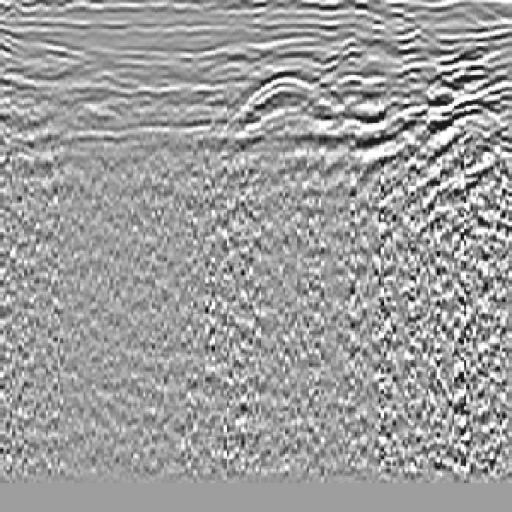metalic: (224, 66, 351, 128)
non-metallic: (387, 28, 512, 218)
